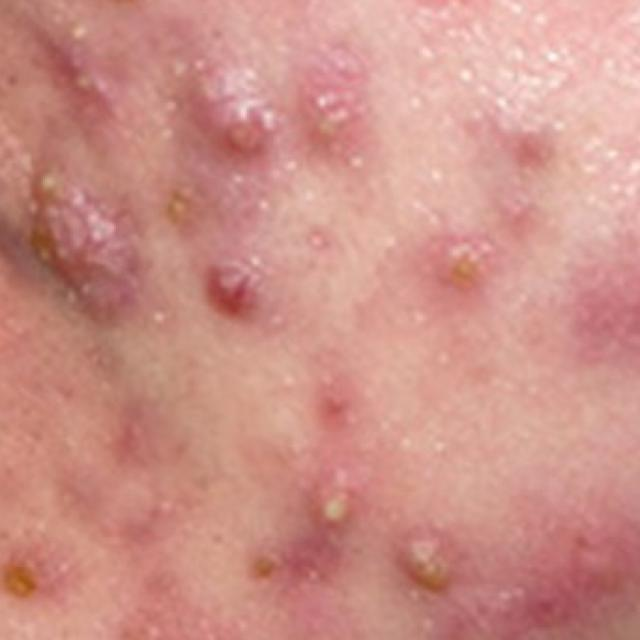acne: (215, 350, 391, 595), (421, 94, 576, 320), (184, 28, 304, 314), (0, 154, 152, 322), (0, 0, 157, 140), (60, 383, 191, 542), (397, 494, 526, 632), (547, 501, 640, 640), (303, 30, 378, 184), (0, 520, 84, 600)
